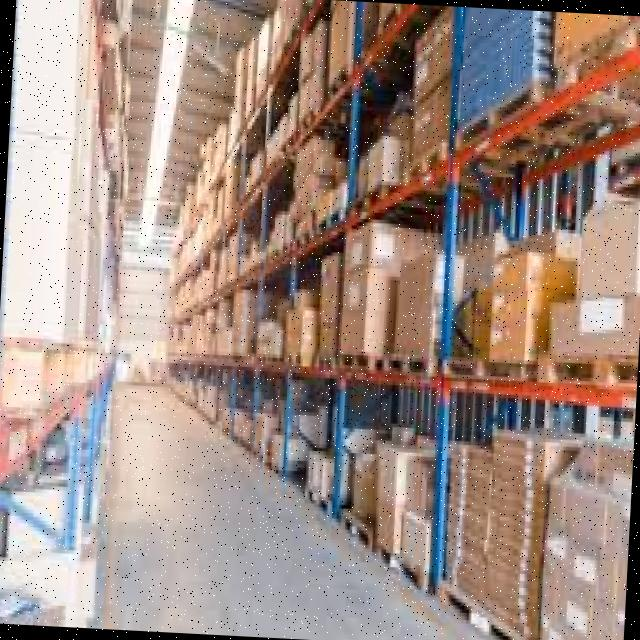Wooden-Pallets: (374, 353, 441, 394), (336, 497, 377, 562)
